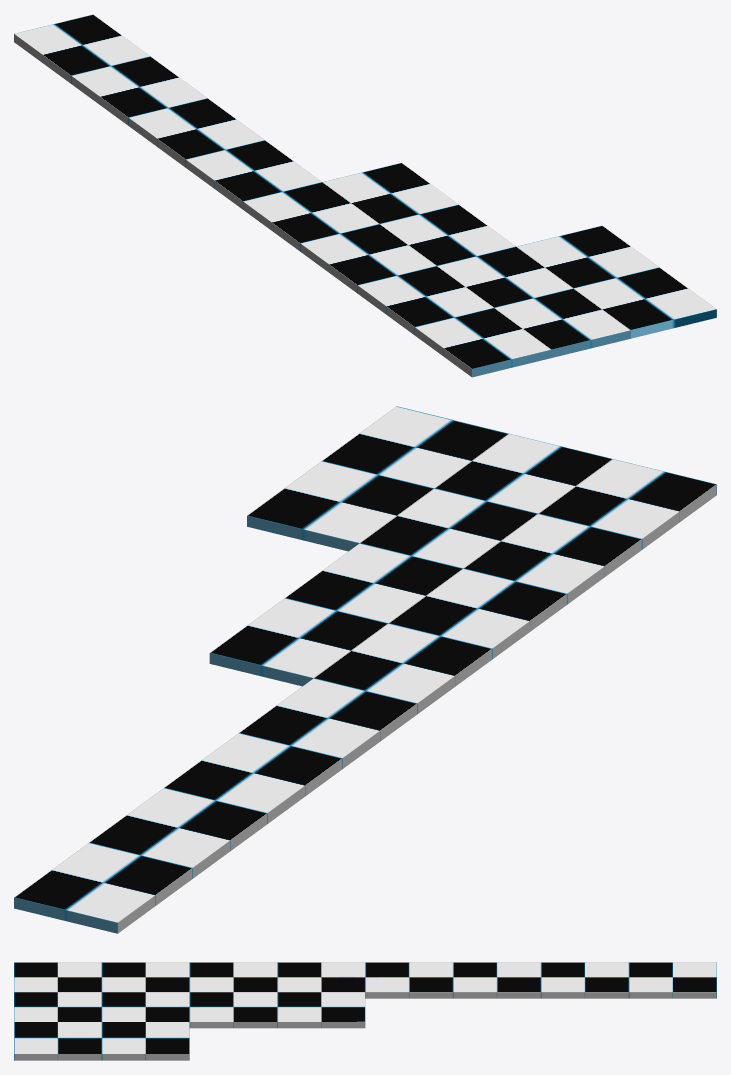
Rendered from Measuring.FBX.
3 renders of one model, top to bottom at view 1: azimuth 30°, elevation 25°; view 2: azimuth 150°, elevation 25°; view 3: azimuth 270°, elevation 25°, orthographic. The views are drawn at different scales.
Visible parts, largest first — view 1: Measuring; view 2: Measuring; view 3: Measuring.
Boxes of the visible parts, x1,y1,x2,y2 form: Measuring: (14,14,716,377); Measuring: (14,406,716,933); Measuring: (14,962,716,1060).
Bounding box in the file's own units: 3.09 × 0.1 × 10.
1 material, 1 textured.
